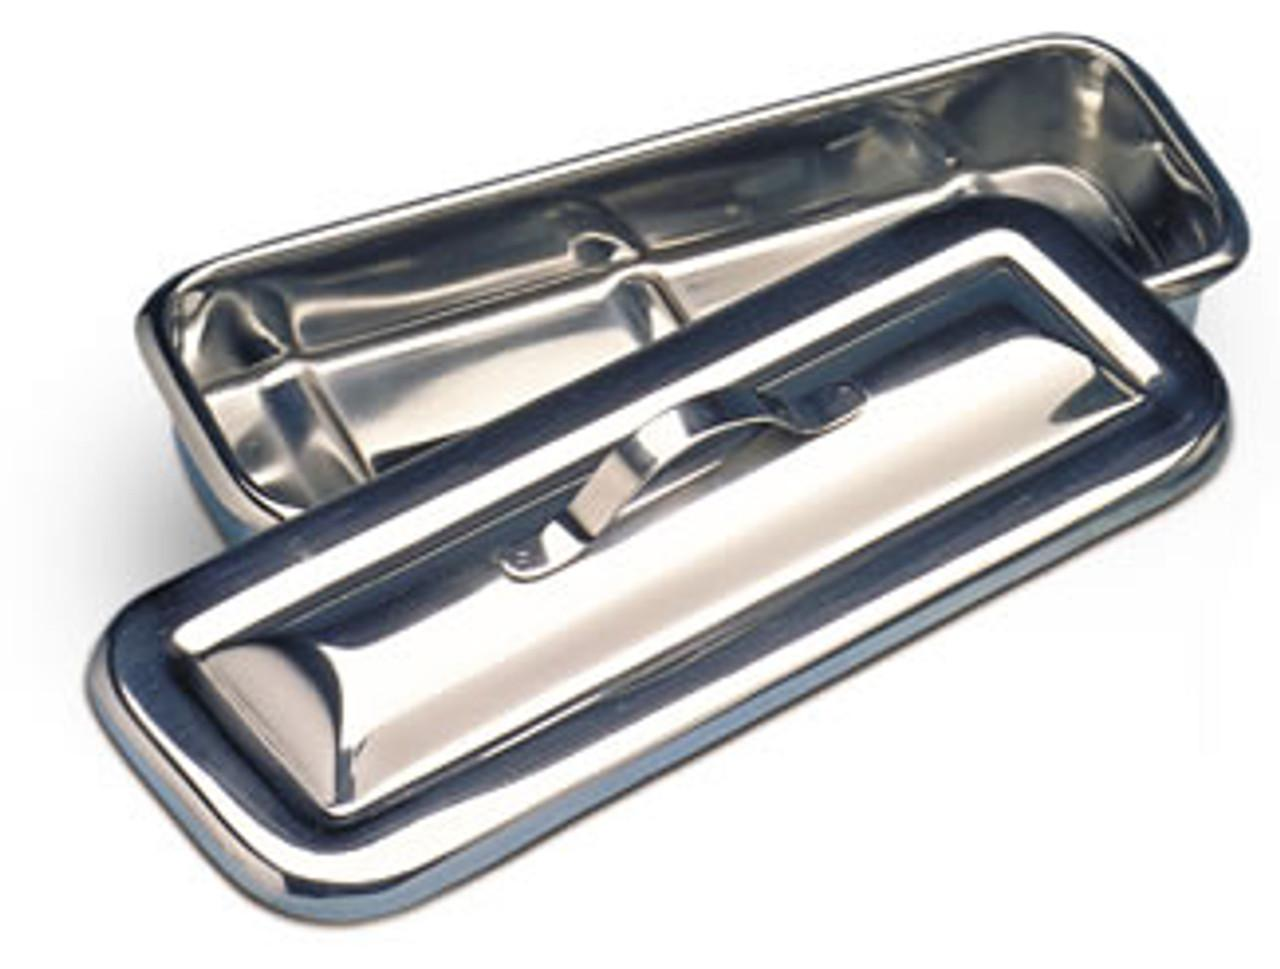Catheter Tray: (107, 21, 1229, 563)
